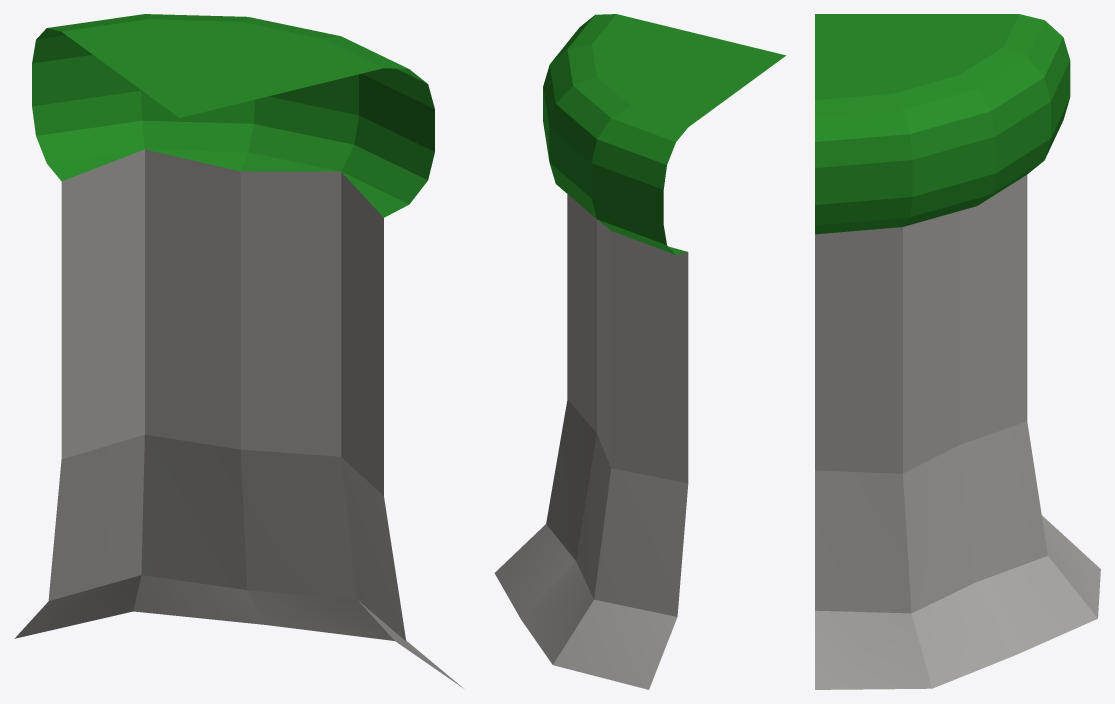
The model's file is Terrain_Cliff_3_Tall_Corner_Outer_1x1.obj.
3 views of the same model, side by side, from view 1: azimuth 30°, elevation 25°; view 2: azimuth 150°, elevation 25°; view 3: azimuth 270°, elevation 25° (orthographic). The views are drawn at different scales.
Visible parts, largest first — view 1: Rock, Grass; view 2: Rock, Grass; view 3: Rock, Grass.
Part boxes in pixels (box(x1,y1,x2,y2)): Rock: box(14, 149, 463, 688); Grass: box(32, 14, 434, 217); Rock: box(494, 194, 688, 689); Grass: box(543, 14, 786, 254); Rock: box(815, 175, 1100, 689); Grass: box(815, 14, 1070, 234).
Bounding box in the file's own units: 1.4 × 3 × 1.4.
